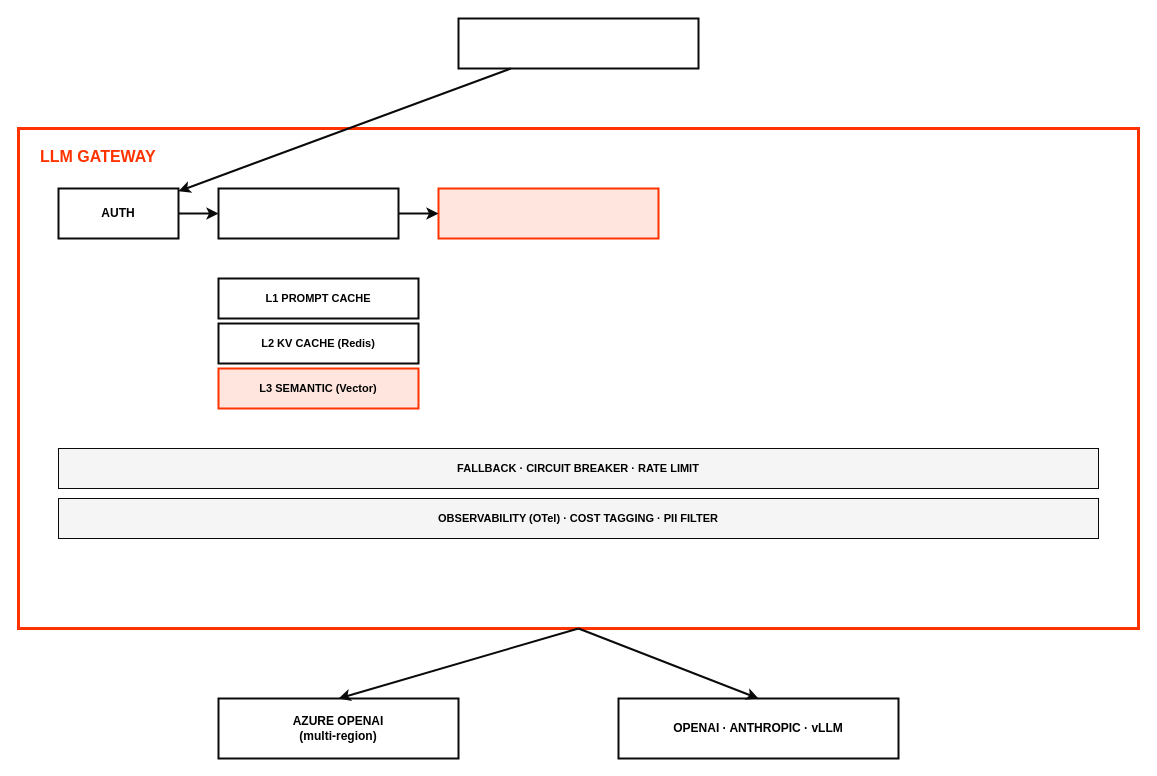
Image size: 1157x776. Some labels were removed from this diagram. Each missing label, with the box of its shape:
APPLICATION: (457, 17, 699, 69)
PROMPT REGISTRY (Langfuse): (217, 187, 399, 239)
ROUTER Cascade · Intent · Weighted: (437, 187, 659, 239)
